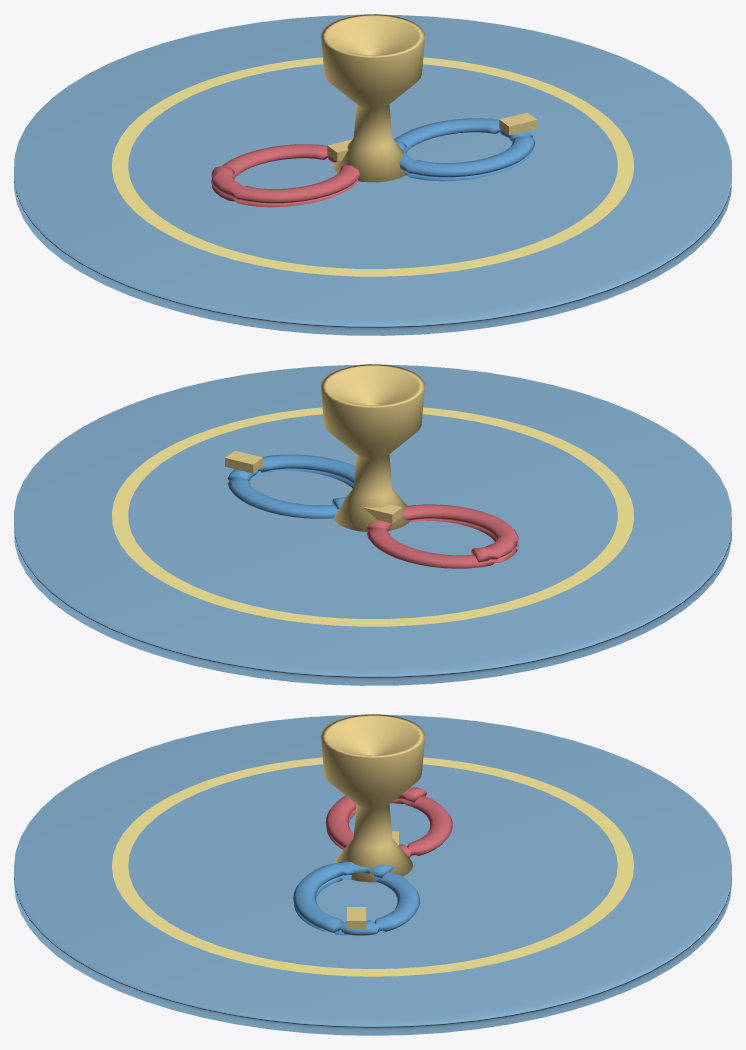
File: kazakh-kuresi.glb
3 renders of one model, top to bottom at view 1: azimuth 30°, elevation 25°; view 2: azimuth 150°, elevation 25°; view 3: azimuth 270°, elevation 25°, orthographic.
Visible parts, largest first — view 1: mat, circle-in, cup, circle, belt (×2), buckle; view 2: mat, circle-in, circle, cup, belt (×2), buckle; view 3: mat, circle-in, circle, cup, belt (×2).
Part boxes in pixels (left/top/right/bottom): mat: left=14, top=14, right=731, bottom=335; circle-in: left=128, top=64, right=617, bottom=268; cup: left=321, top=14, right=424, bottom=182; circle: left=112, top=57, right=633, bottom=276; belt (×2): left=211, top=118, right=534, bottom=207; buckle: left=499, top=112, right=537, bottom=135; mat: left=14, top=364, right=731, bottom=685; circle-in: left=128, top=414, right=617, bottom=618; circle: left=112, top=407, right=633, bottom=626; cup: left=321, top=364, right=424, bottom=532; belt (×2): left=227, top=454, right=518, bottom=568; buckle: left=225, top=451, right=262, bottom=473; mat: left=14, top=715, right=731, bottom=1035; circle-in: left=128, top=764, right=617, bottom=968; circle: left=112, top=757, right=633, bottom=976; cup: left=320, top=714, right=425, bottom=882; belt (×2): left=293, top=787, right=452, bottom=936.
Size of the model in its own units: 4.4 by 1 by 4.4.
